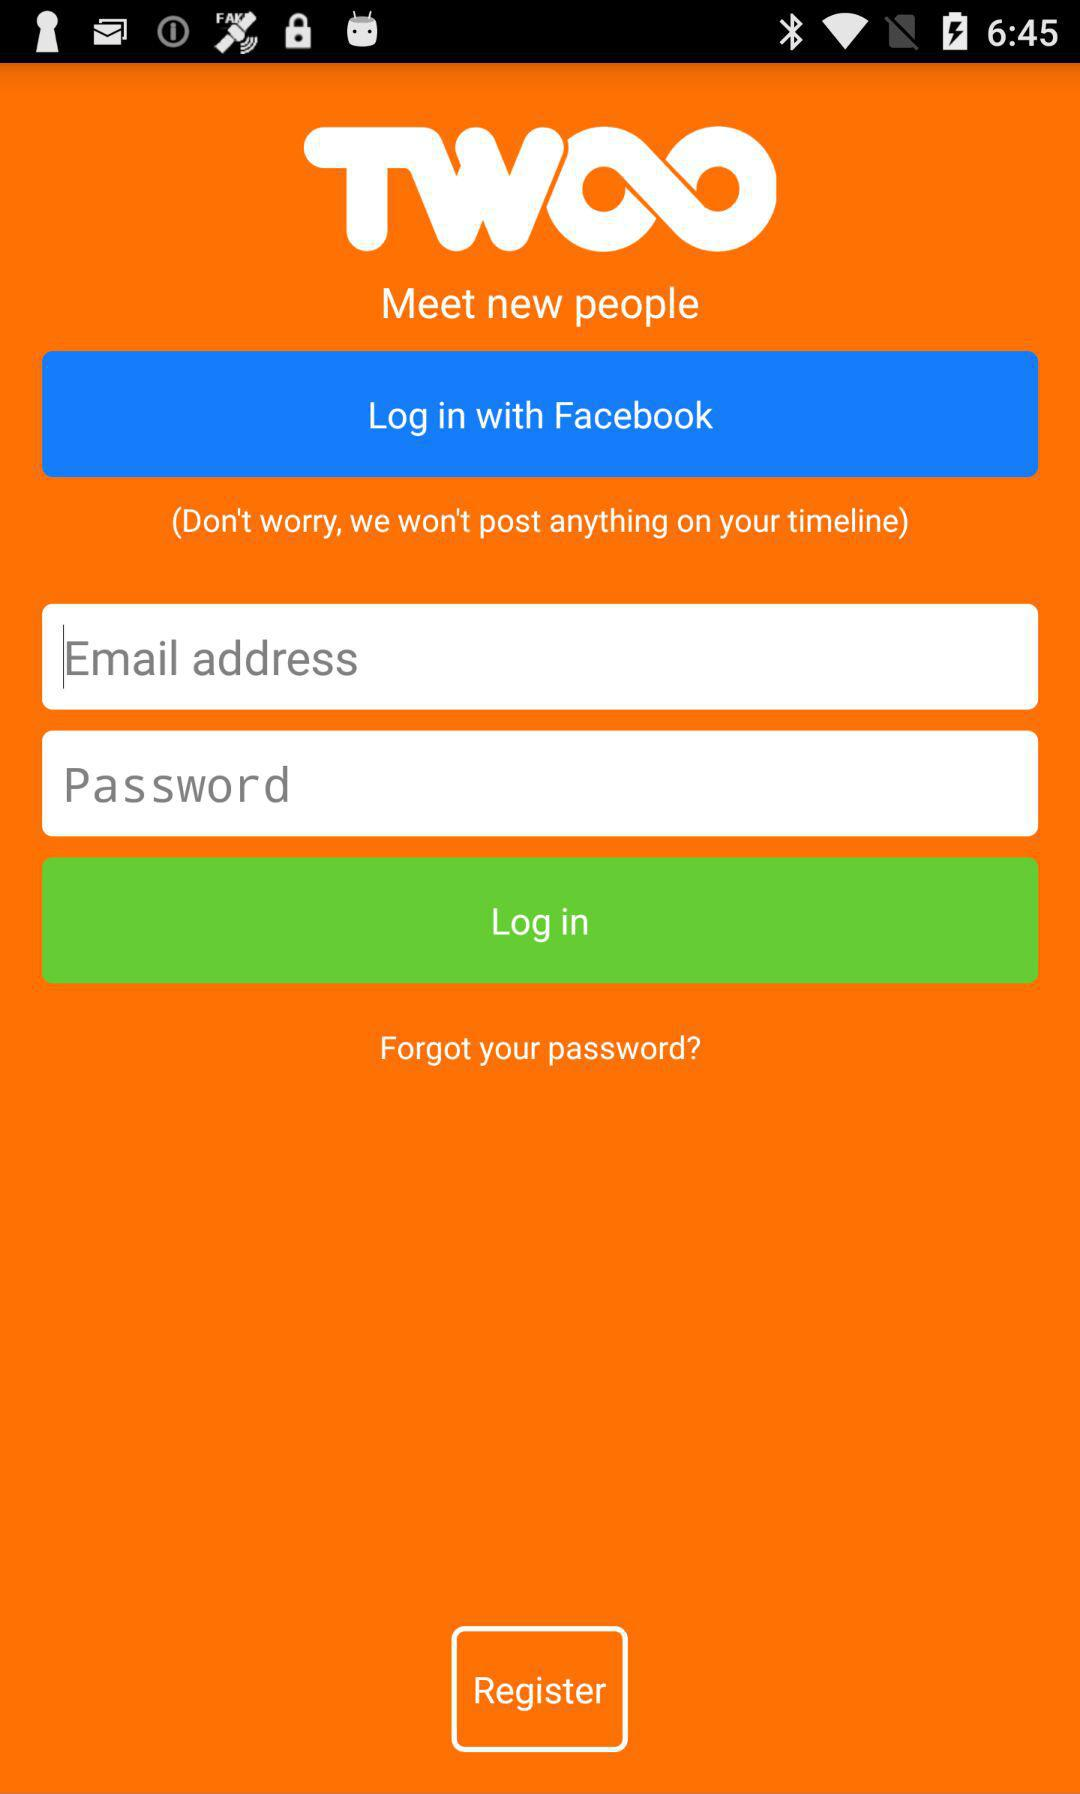EditText: (42, 604, 1039, 711), (42, 730, 1039, 837)
Image: (304, 126, 779, 254)
Text: (172, 505, 910, 541), (383, 286, 700, 329), (67, 639, 357, 677), (380, 1034, 702, 1067), (67, 766, 290, 803)
TextButton: (42, 351, 1039, 479), (42, 859, 1039, 985), (451, 1625, 629, 1753)
UpperTaskBar: (1, 1, 1080, 64)
